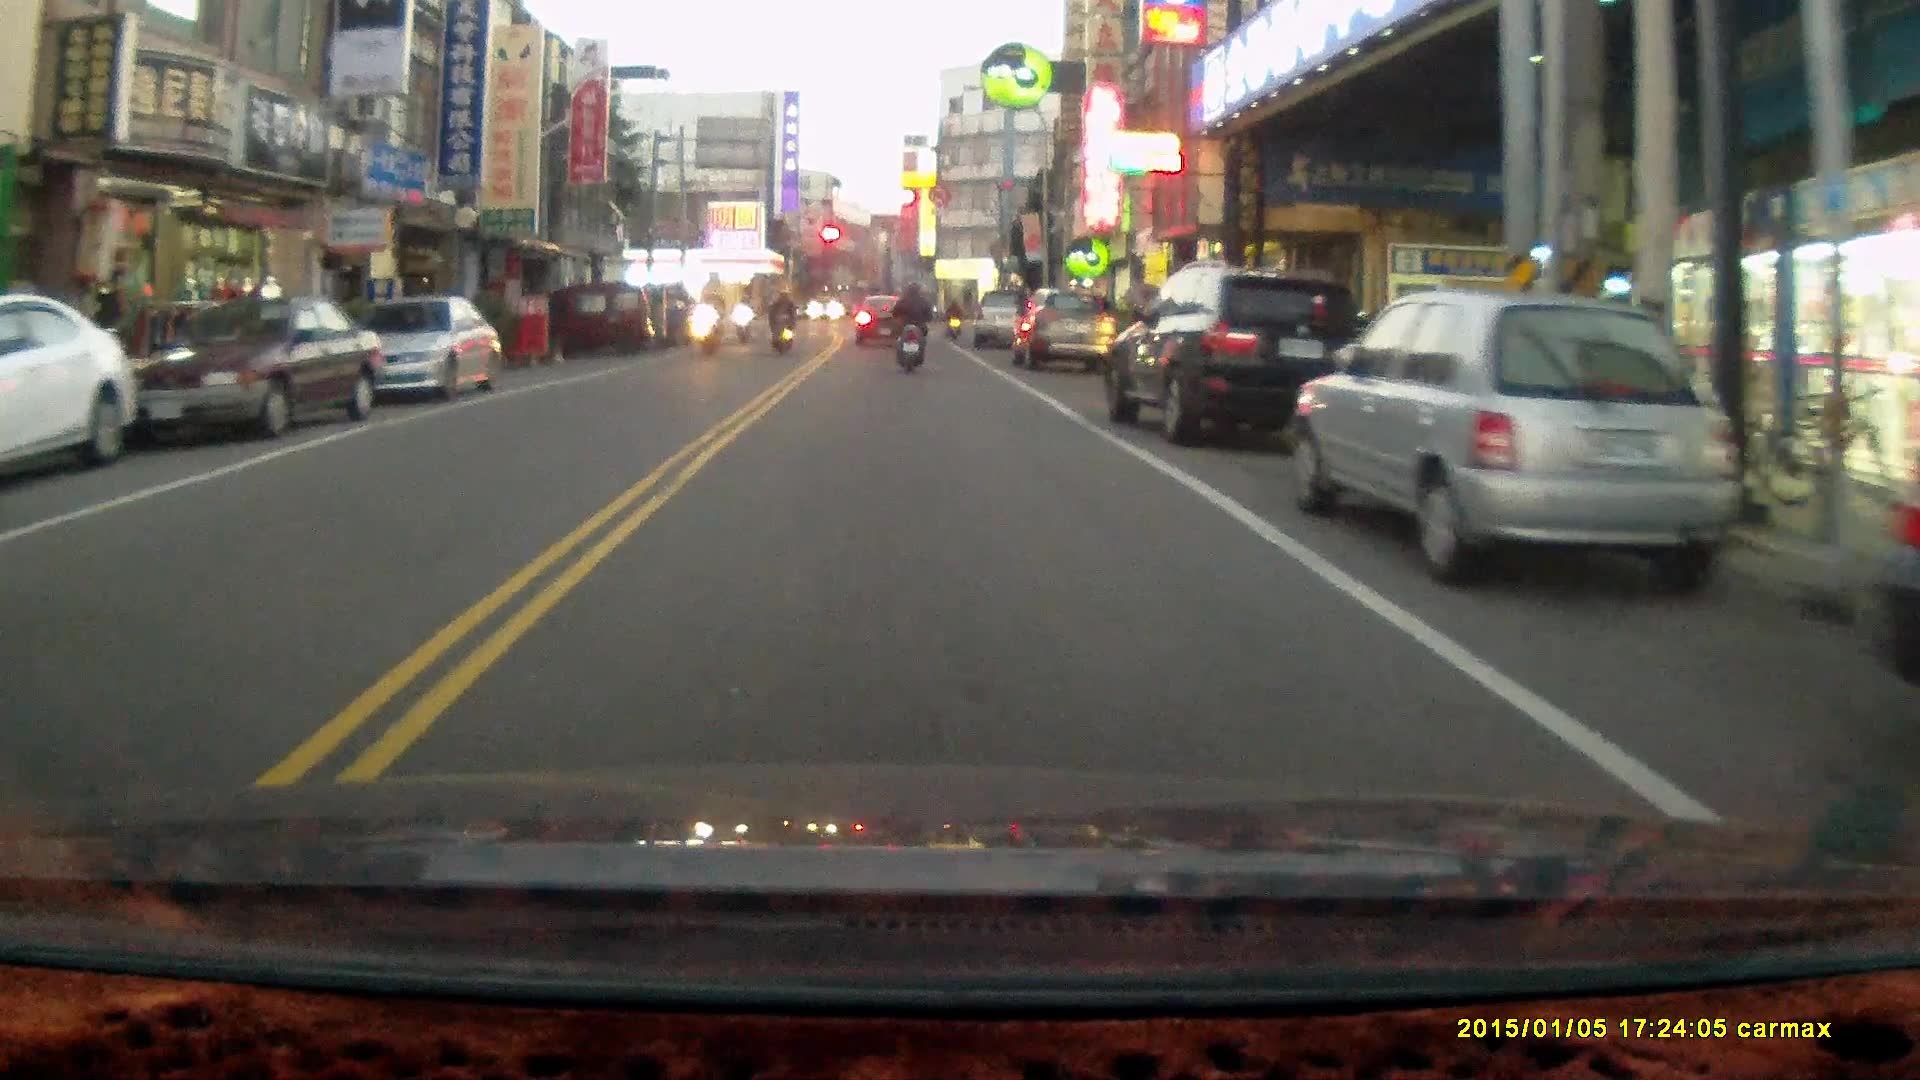rider: (890, 282, 931, 377), (693, 290, 723, 357), (767, 288, 796, 353), (731, 294, 755, 350), (942, 296, 964, 340)
vehicle: (1287, 292, 1755, 587), (1106, 264, 1374, 452), (106, 295, 384, 443), (1, 296, 145, 493), (345, 295, 502, 405), (1016, 292, 1121, 376), (569, 285, 661, 355), (971, 289, 1039, 354)
